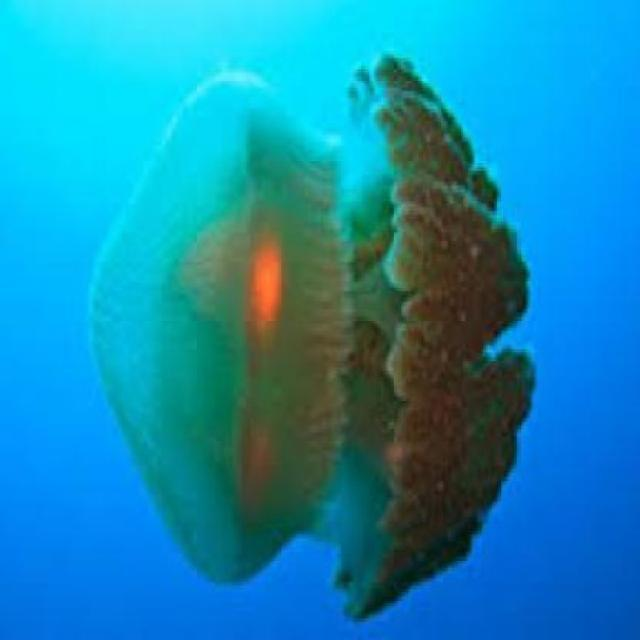Jellyfish: (80, 37, 542, 626)
